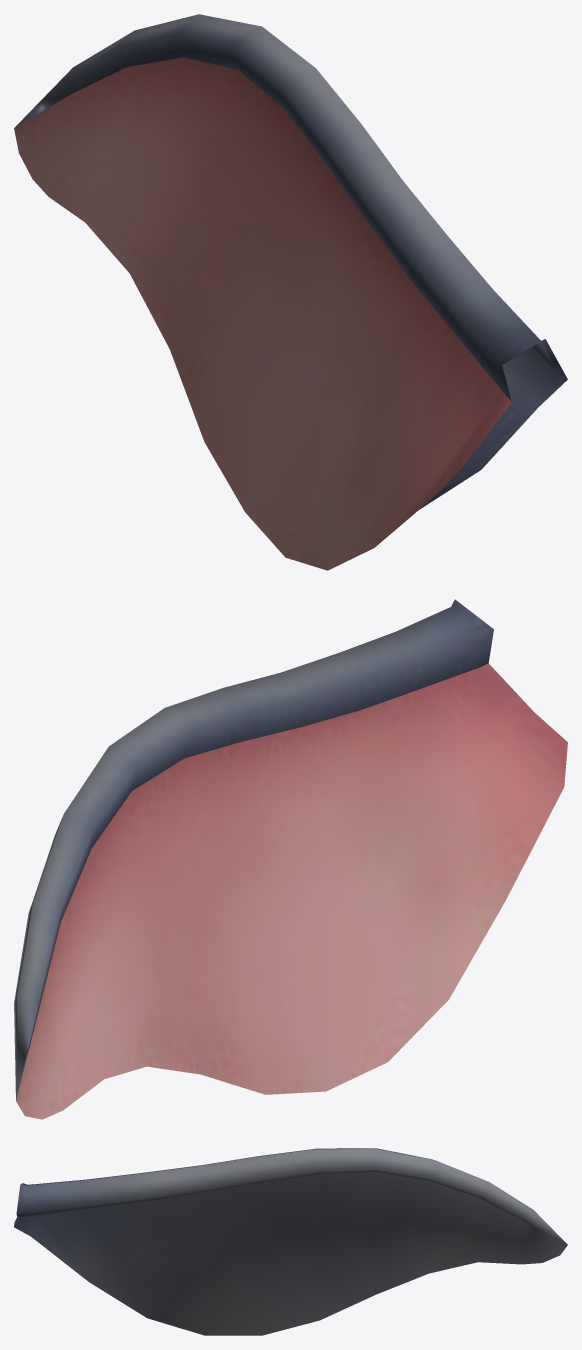
Rendered from oreja_der_dumbo.obj.
3 renders of one model, top to bottom at view 1: azimuth 30°, elevation 25°; view 2: azimuth 150°, elevation 25°; view 3: azimuth 270°, elevation 25°, orthographic. The views are drawn at different scales.
Visible parts, largest first — view 1: oreja_der_dumbo, oreja_der_dumbo001; view 2: oreja_der_dumbo, oreja_der_dumbo001; view 3: oreja_der_dumbo001.
Boxes of the visible parts, box(x1,y1,x2,y2) form: oreja_der_dumbo: box(14, 57, 511, 570); oreja_der_dumbo001: box(14, 14, 567, 509); oreja_der_dumbo: box(16, 663, 567, 1119); oreja_der_dumbo001: box(14, 599, 493, 1100); oreja_der_dumbo001: box(14, 1148, 567, 1335).
Size of the model in its own units: 0.2066 by 0.4812 by 1.09.
